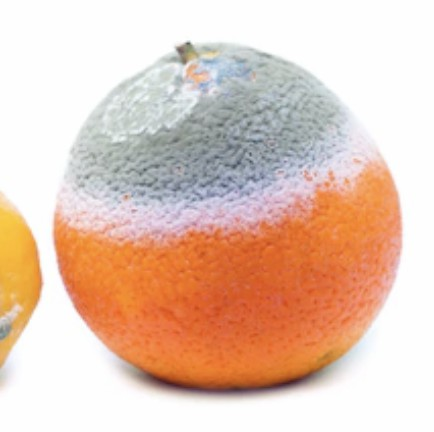rotten_orange: (55, 44, 402, 392)
